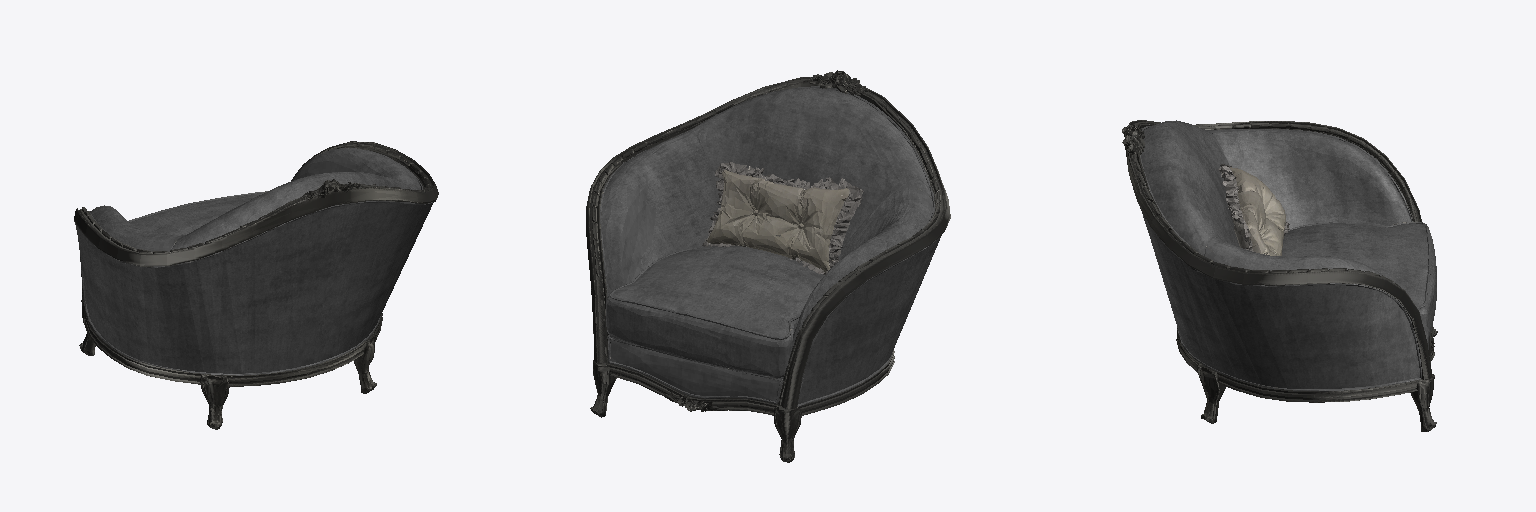
The picture shows the model from 3 angles: view 1: azimuth 30°, elevation 25°; view 2: azimuth 150°, elevation 25°; view 3: azimuth 270°, elevation 25°; orthographic projection.
Parts seen in each view (by area): view 1: solid_001_wire; view 2: solid_001_wire; view 3: solid_001_wire.
Boxes of the visible parts, x1,y1,x2,y2 form: solid_001_wire: [74, 141, 438, 429]; solid_001_wire: [586, 70, 950, 462]; solid_001_wire: [1122, 120, 1437, 431].
Size of the model in its own units: 1.03 by 0.7962 by 0.8787.
1 materials, 1 textured.